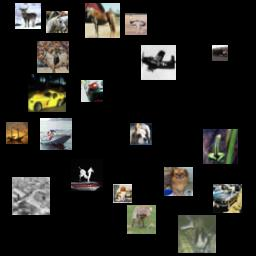airplane: (12, 177, 50, 215), (141, 45, 176, 80)
automobile: (28, 74, 66, 112), (213, 184, 242, 213), (81, 80, 103, 102)
bird: (125, 13, 147, 35)
deer: (127, 205, 156, 234), (15, 3, 41, 29)
dog: (178, 215, 216, 253), (164, 167, 193, 196), (130, 123, 152, 145), (113, 184, 132, 203)
frog: (203, 129, 238, 164)
ship: (40, 118, 72, 150), (6, 122, 28, 144)
truck: (212, 45, 228, 61)
